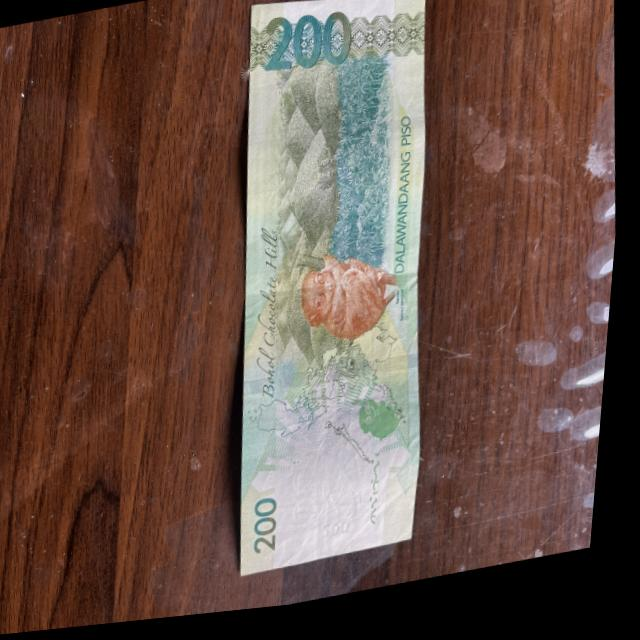200_tarsier: (288, 233, 417, 363)
200_tarsier_watermark: (357, 381, 419, 459)
value_watermark: (324, 525, 364, 553)
